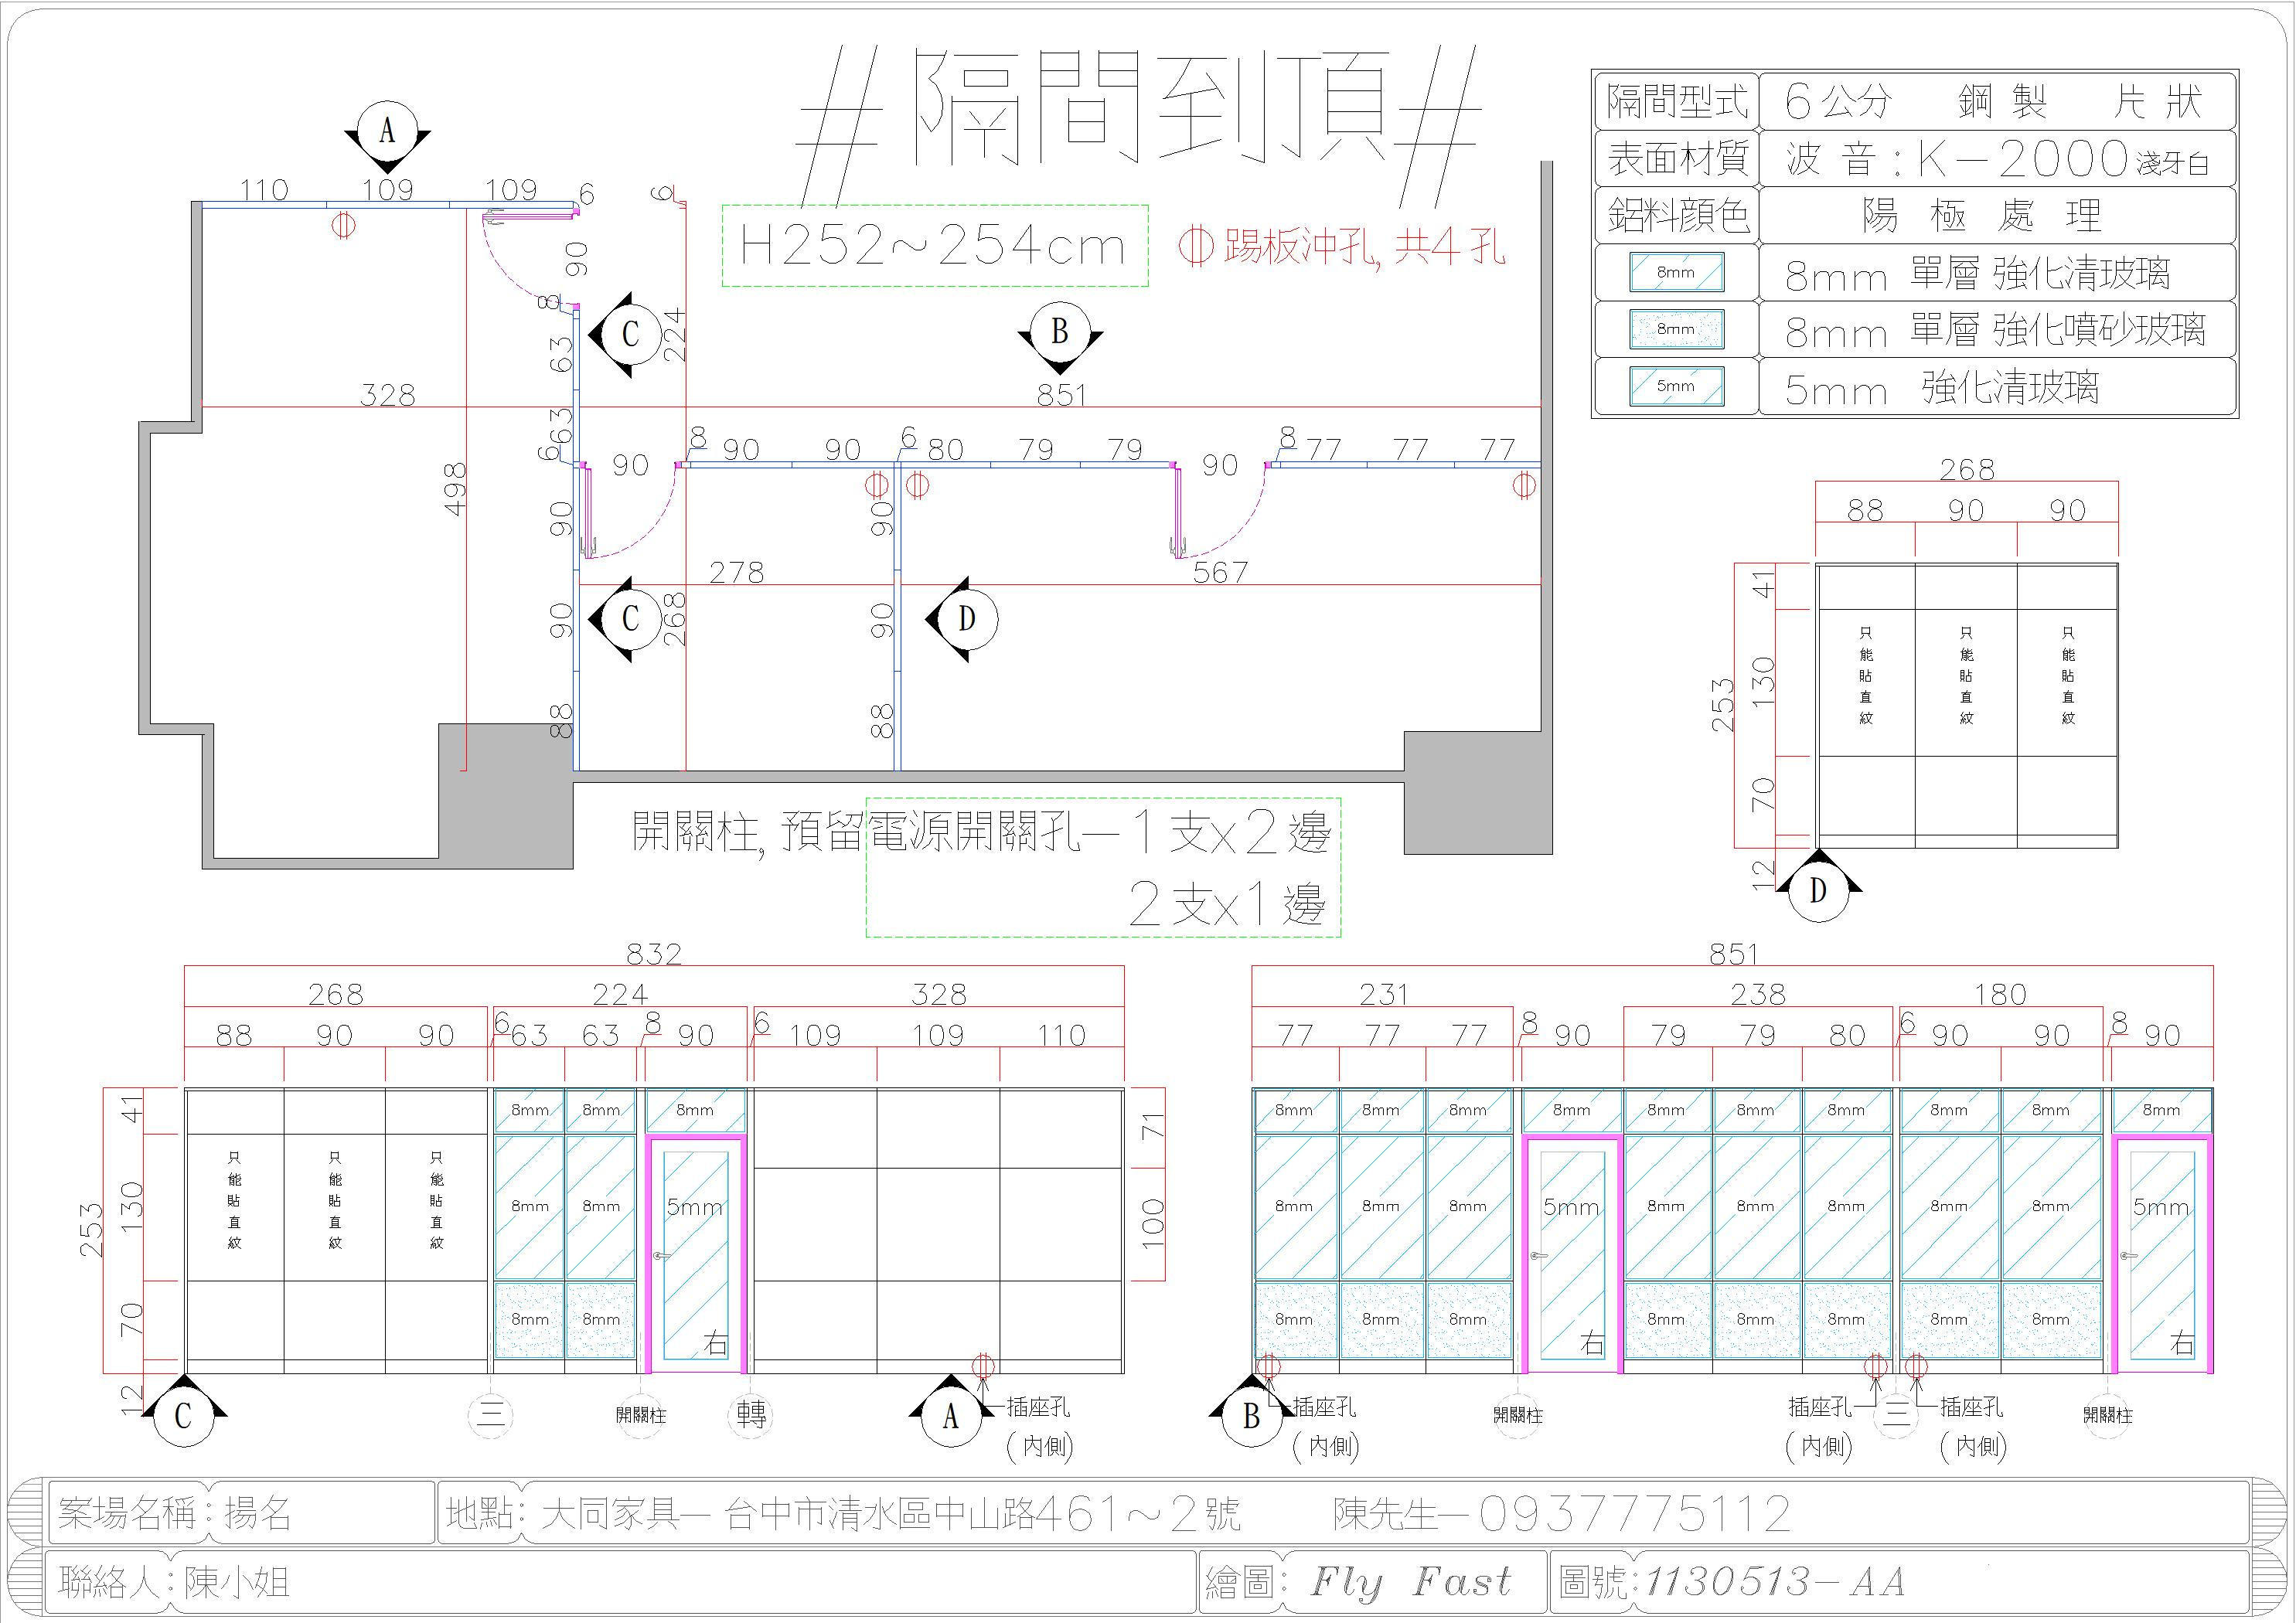GSP: (1899, 1282, 2001, 1361), (1713, 1282, 1802, 1358)
SG: (1900, 1090, 2000, 1131), (1623, 1090, 1712, 1134)
